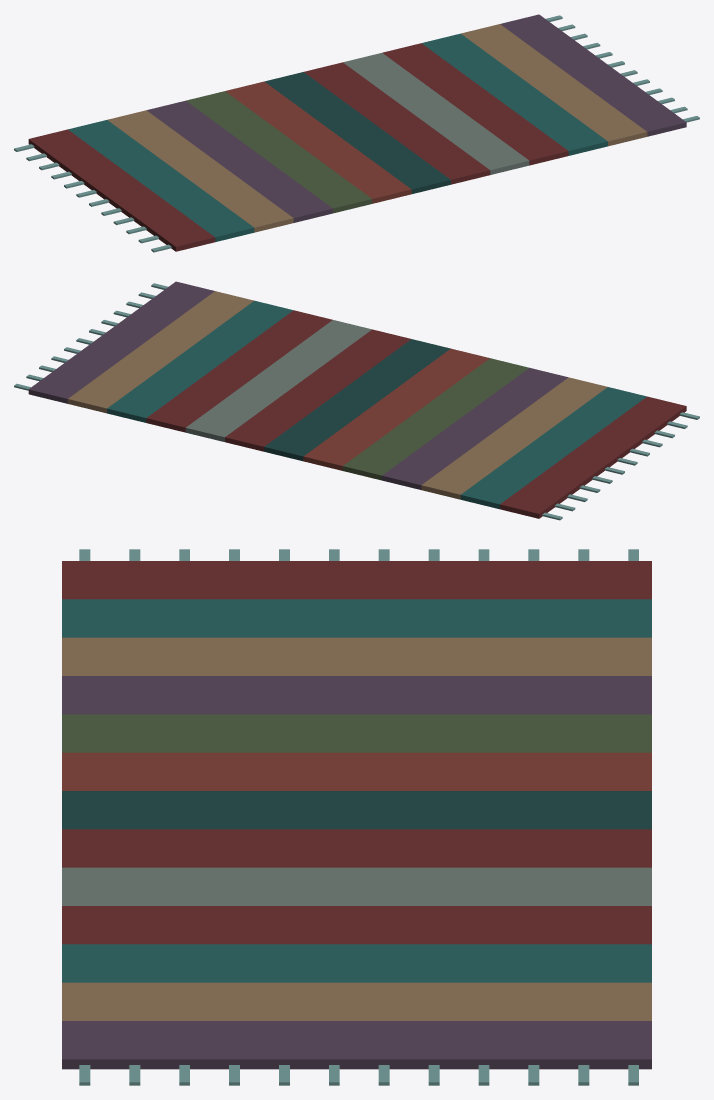
The model's file is pres.glb.
The picture shows the model from 3 angles, top to bottom: view 1: azimuth 30°, elevation 25°; view 2: azimuth 150°, elevation 25°; view 3: azimuth 270°, elevation 25°; orthographic projection. The views are drawn at different scales.
Parts seen in each view (by area): view 1: Pres; view 2: Pres; view 3: Pres.
Boxes of the visible parts, x1,y1,x2,y2 form: Pres: [14, 14, 699, 252]; Pres: [14, 281, 699, 520]; Pres: [62, 549, 651, 1085].
Size of the model in its own units: 1.39 by 0.012 by 0.65.
